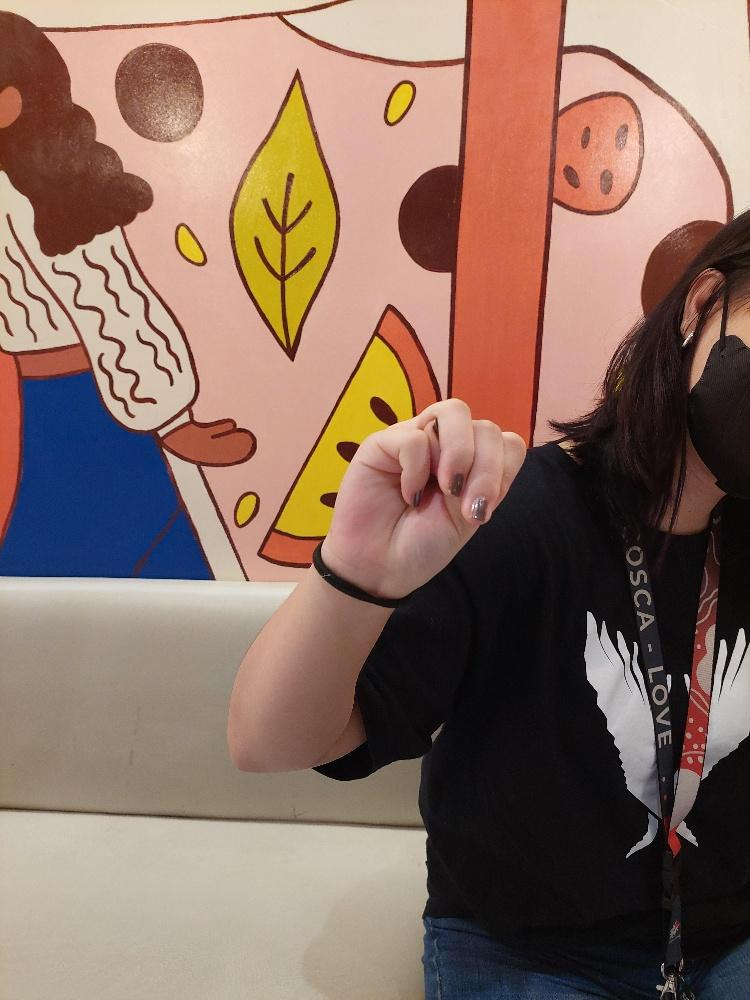m: (327, 394, 529, 589)
